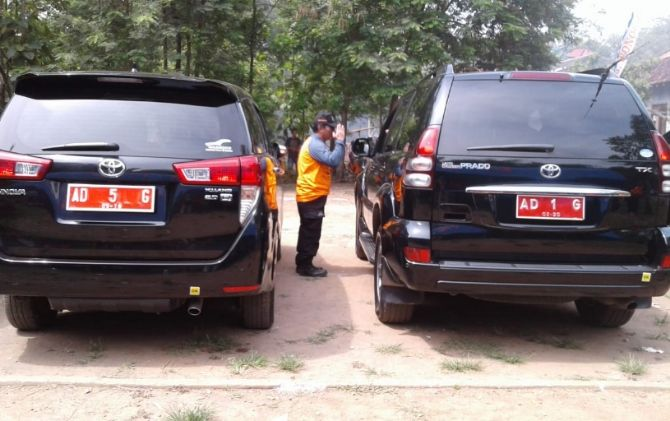plate: (68, 183, 155, 211), (516, 195, 585, 221)
